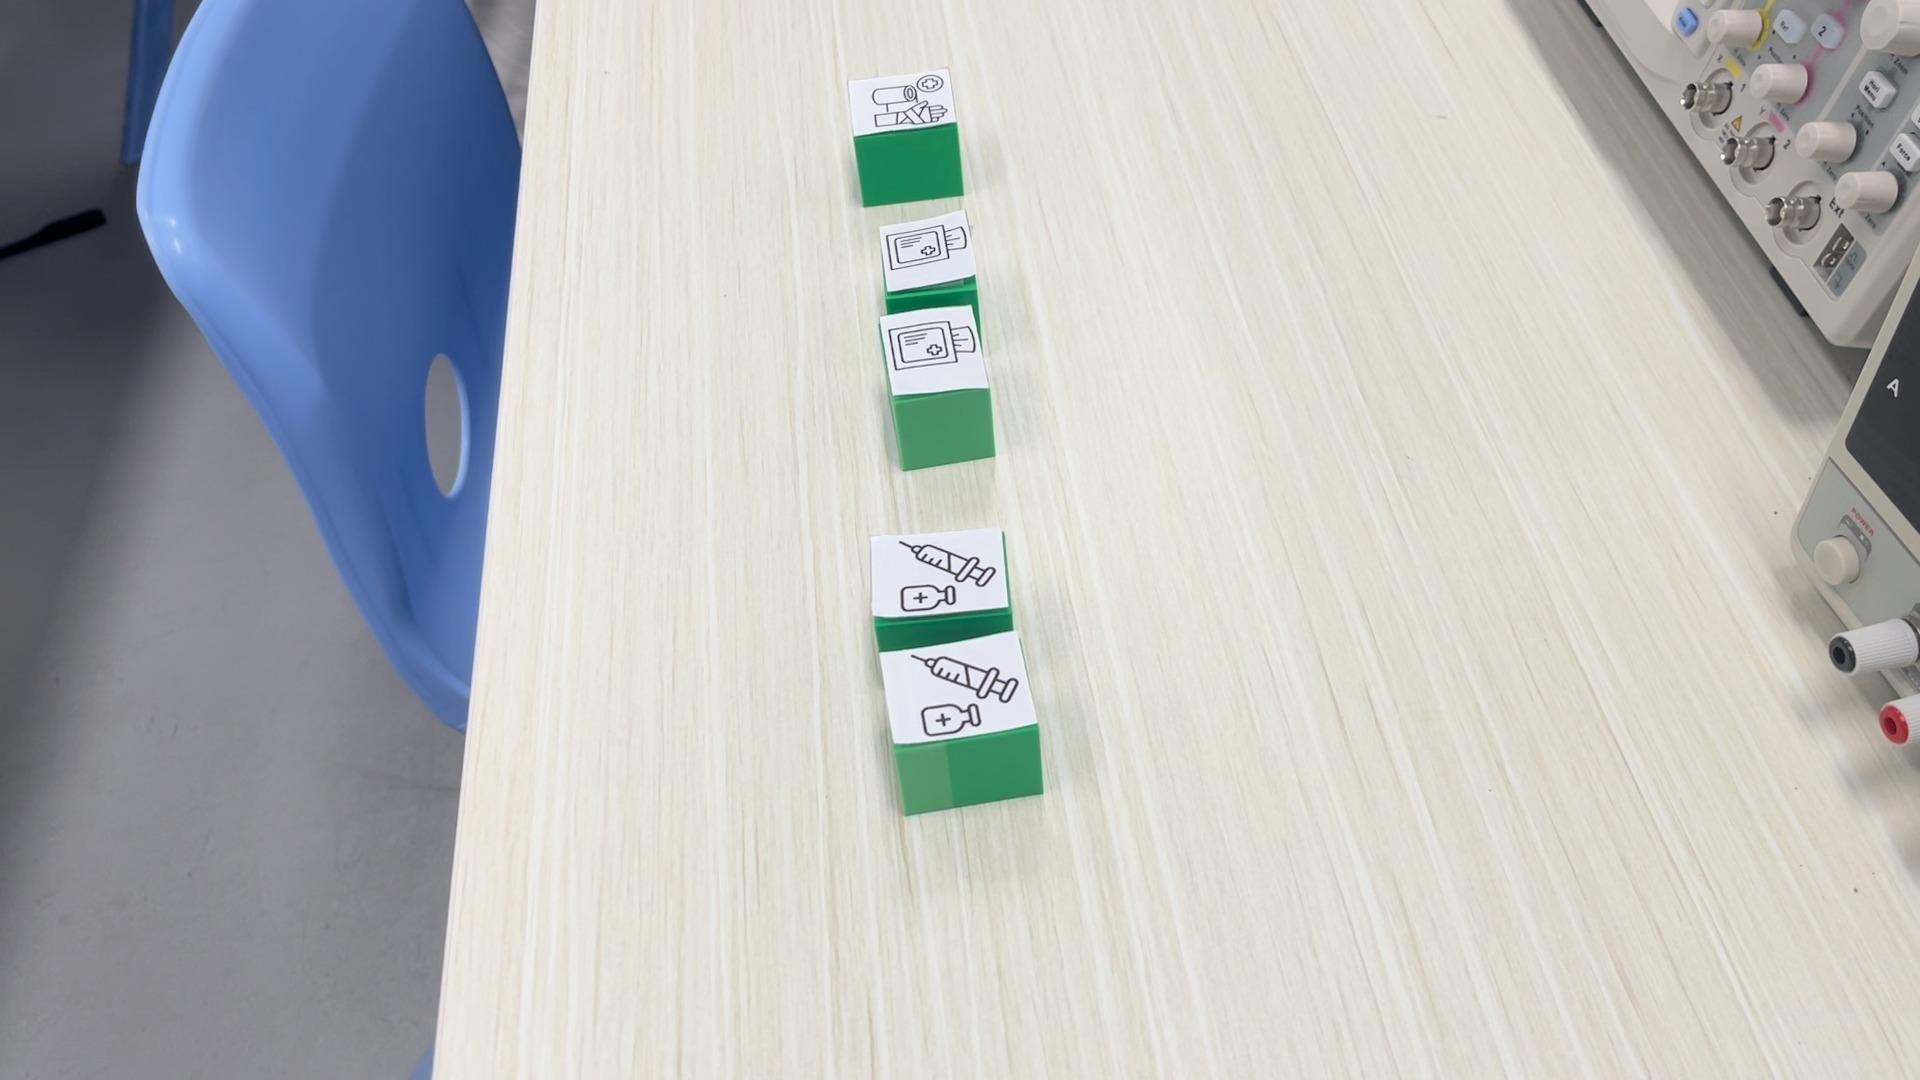Bandages: (851, 69, 967, 210)
Gauze: (878, 305, 997, 472), (880, 210, 981, 314)
antiseptic cream: (874, 618, 1043, 816), (872, 526, 1009, 645)
